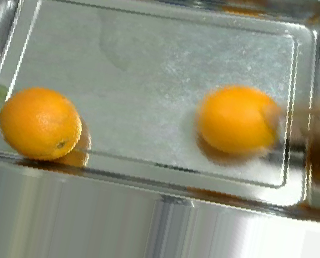Orange: (195, 83, 283, 154), (1, 86, 82, 160)
